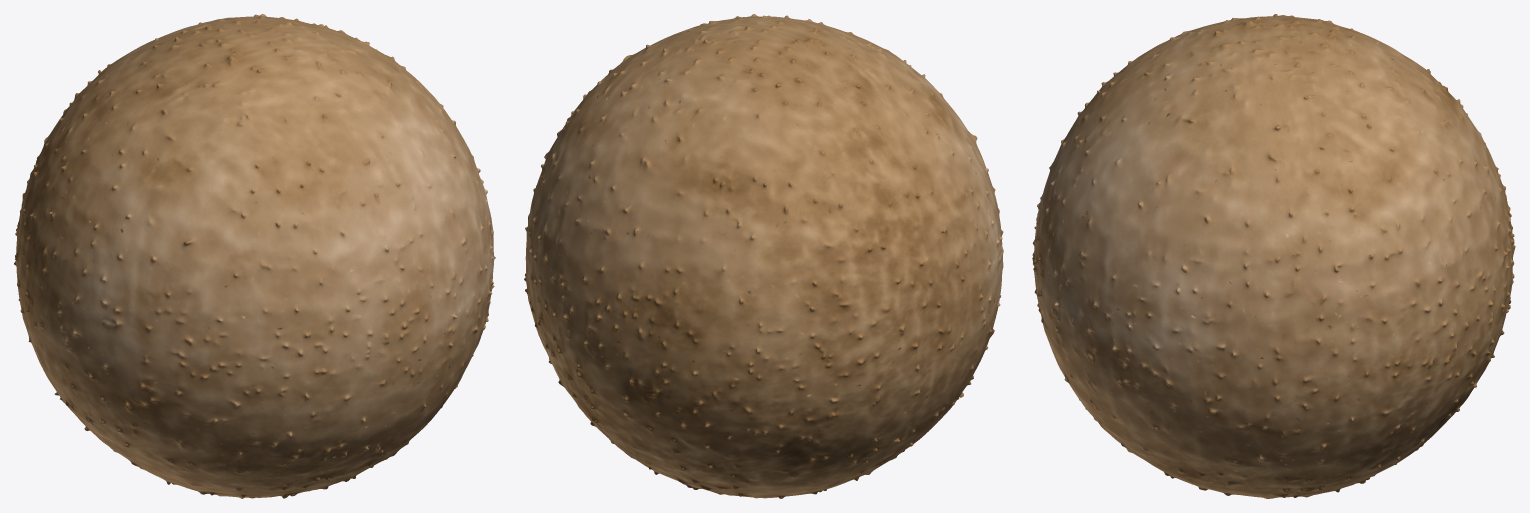
File: venus.glb
3 renders of one model, left to right at view 1: azimuth 30°, elevation 25°; view 2: azimuth 150°, elevation 25°; view 3: azimuth 270°, elevation 25°, orthographic.
Parts seen in each view (by area): view 1: world; view 2: world; view 3: world.
Boxes of the visible parts, <box> form: world: <box>14,14,495,498</box>; world: <box>524,14,1003,498</box>; world: <box>1032,14,1515,498</box>.
Bounding box in the file's own units: 0.9951 × 1 × 0.9995.
Materials: 1 (1 with a texture image).
